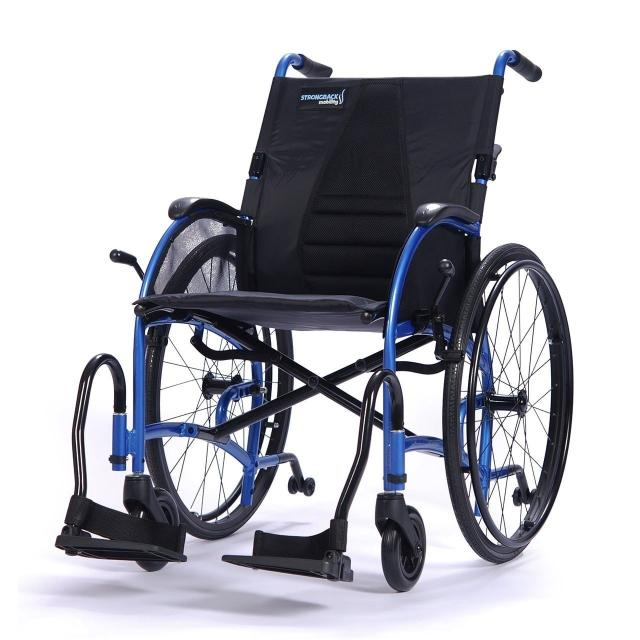wheelchair: (37, 39, 586, 594)
